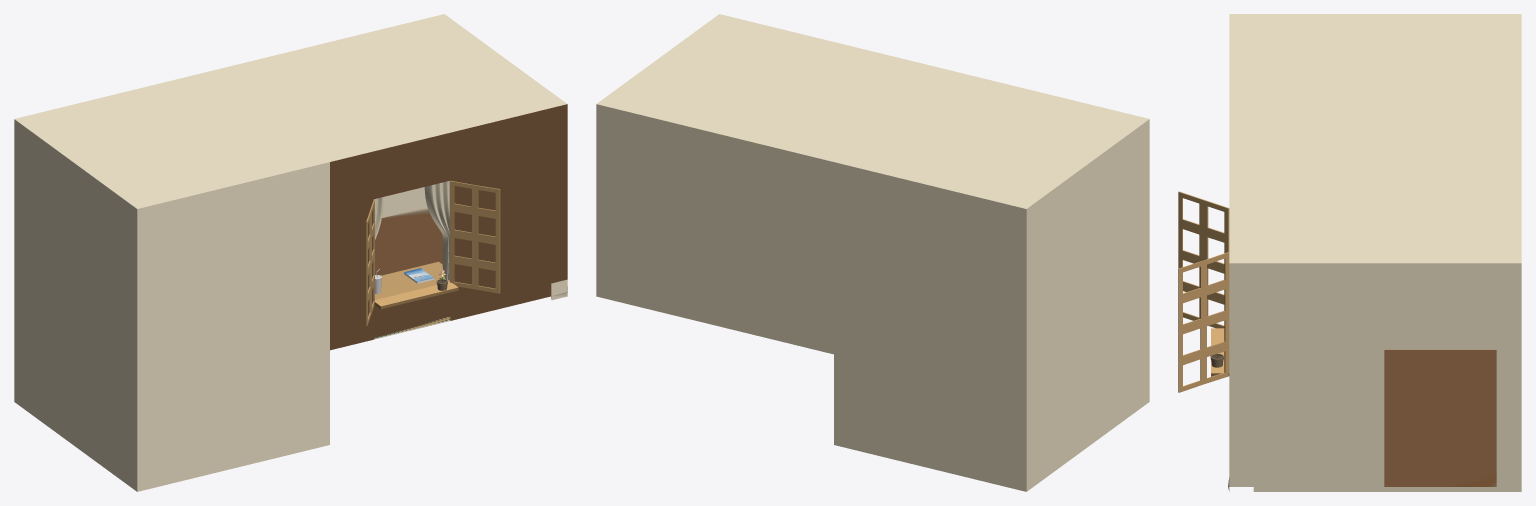
The picture shows the model from 3 angles, left to right: view 1: azimuth 30°, elevation 25°; view 2: azimuth 150°, elevation 25°; view 3: azimuth 270°, elevation 25°; orthographic projection. The views are drawn at different scales.
Parts seen in each view (by area): view 1: 毛坯房, 平面.003, 立方体.002; view 2: 毛坯房; view 3: 毛坯房.
Part boxes in pixels (x1,y1,x2,y2): 毛坯房: [14, 14, 567, 491]; 平面.003: [375, 181, 449, 280]; 立方体.002: [375, 261, 449, 299]; 毛坯房: [596, 14, 1149, 491]; 毛坯房: [1178, 14, 1521, 491].
Bounding box in the file's own units: 24.54 × 15.42 × 14.29.
2 materials, 2 textured.
